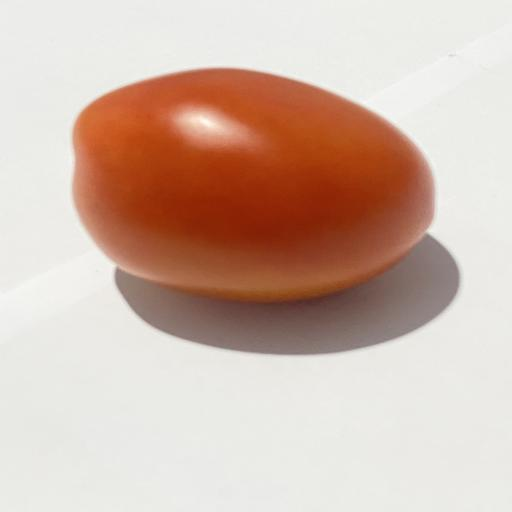ripe: (73, 68, 434, 301)
